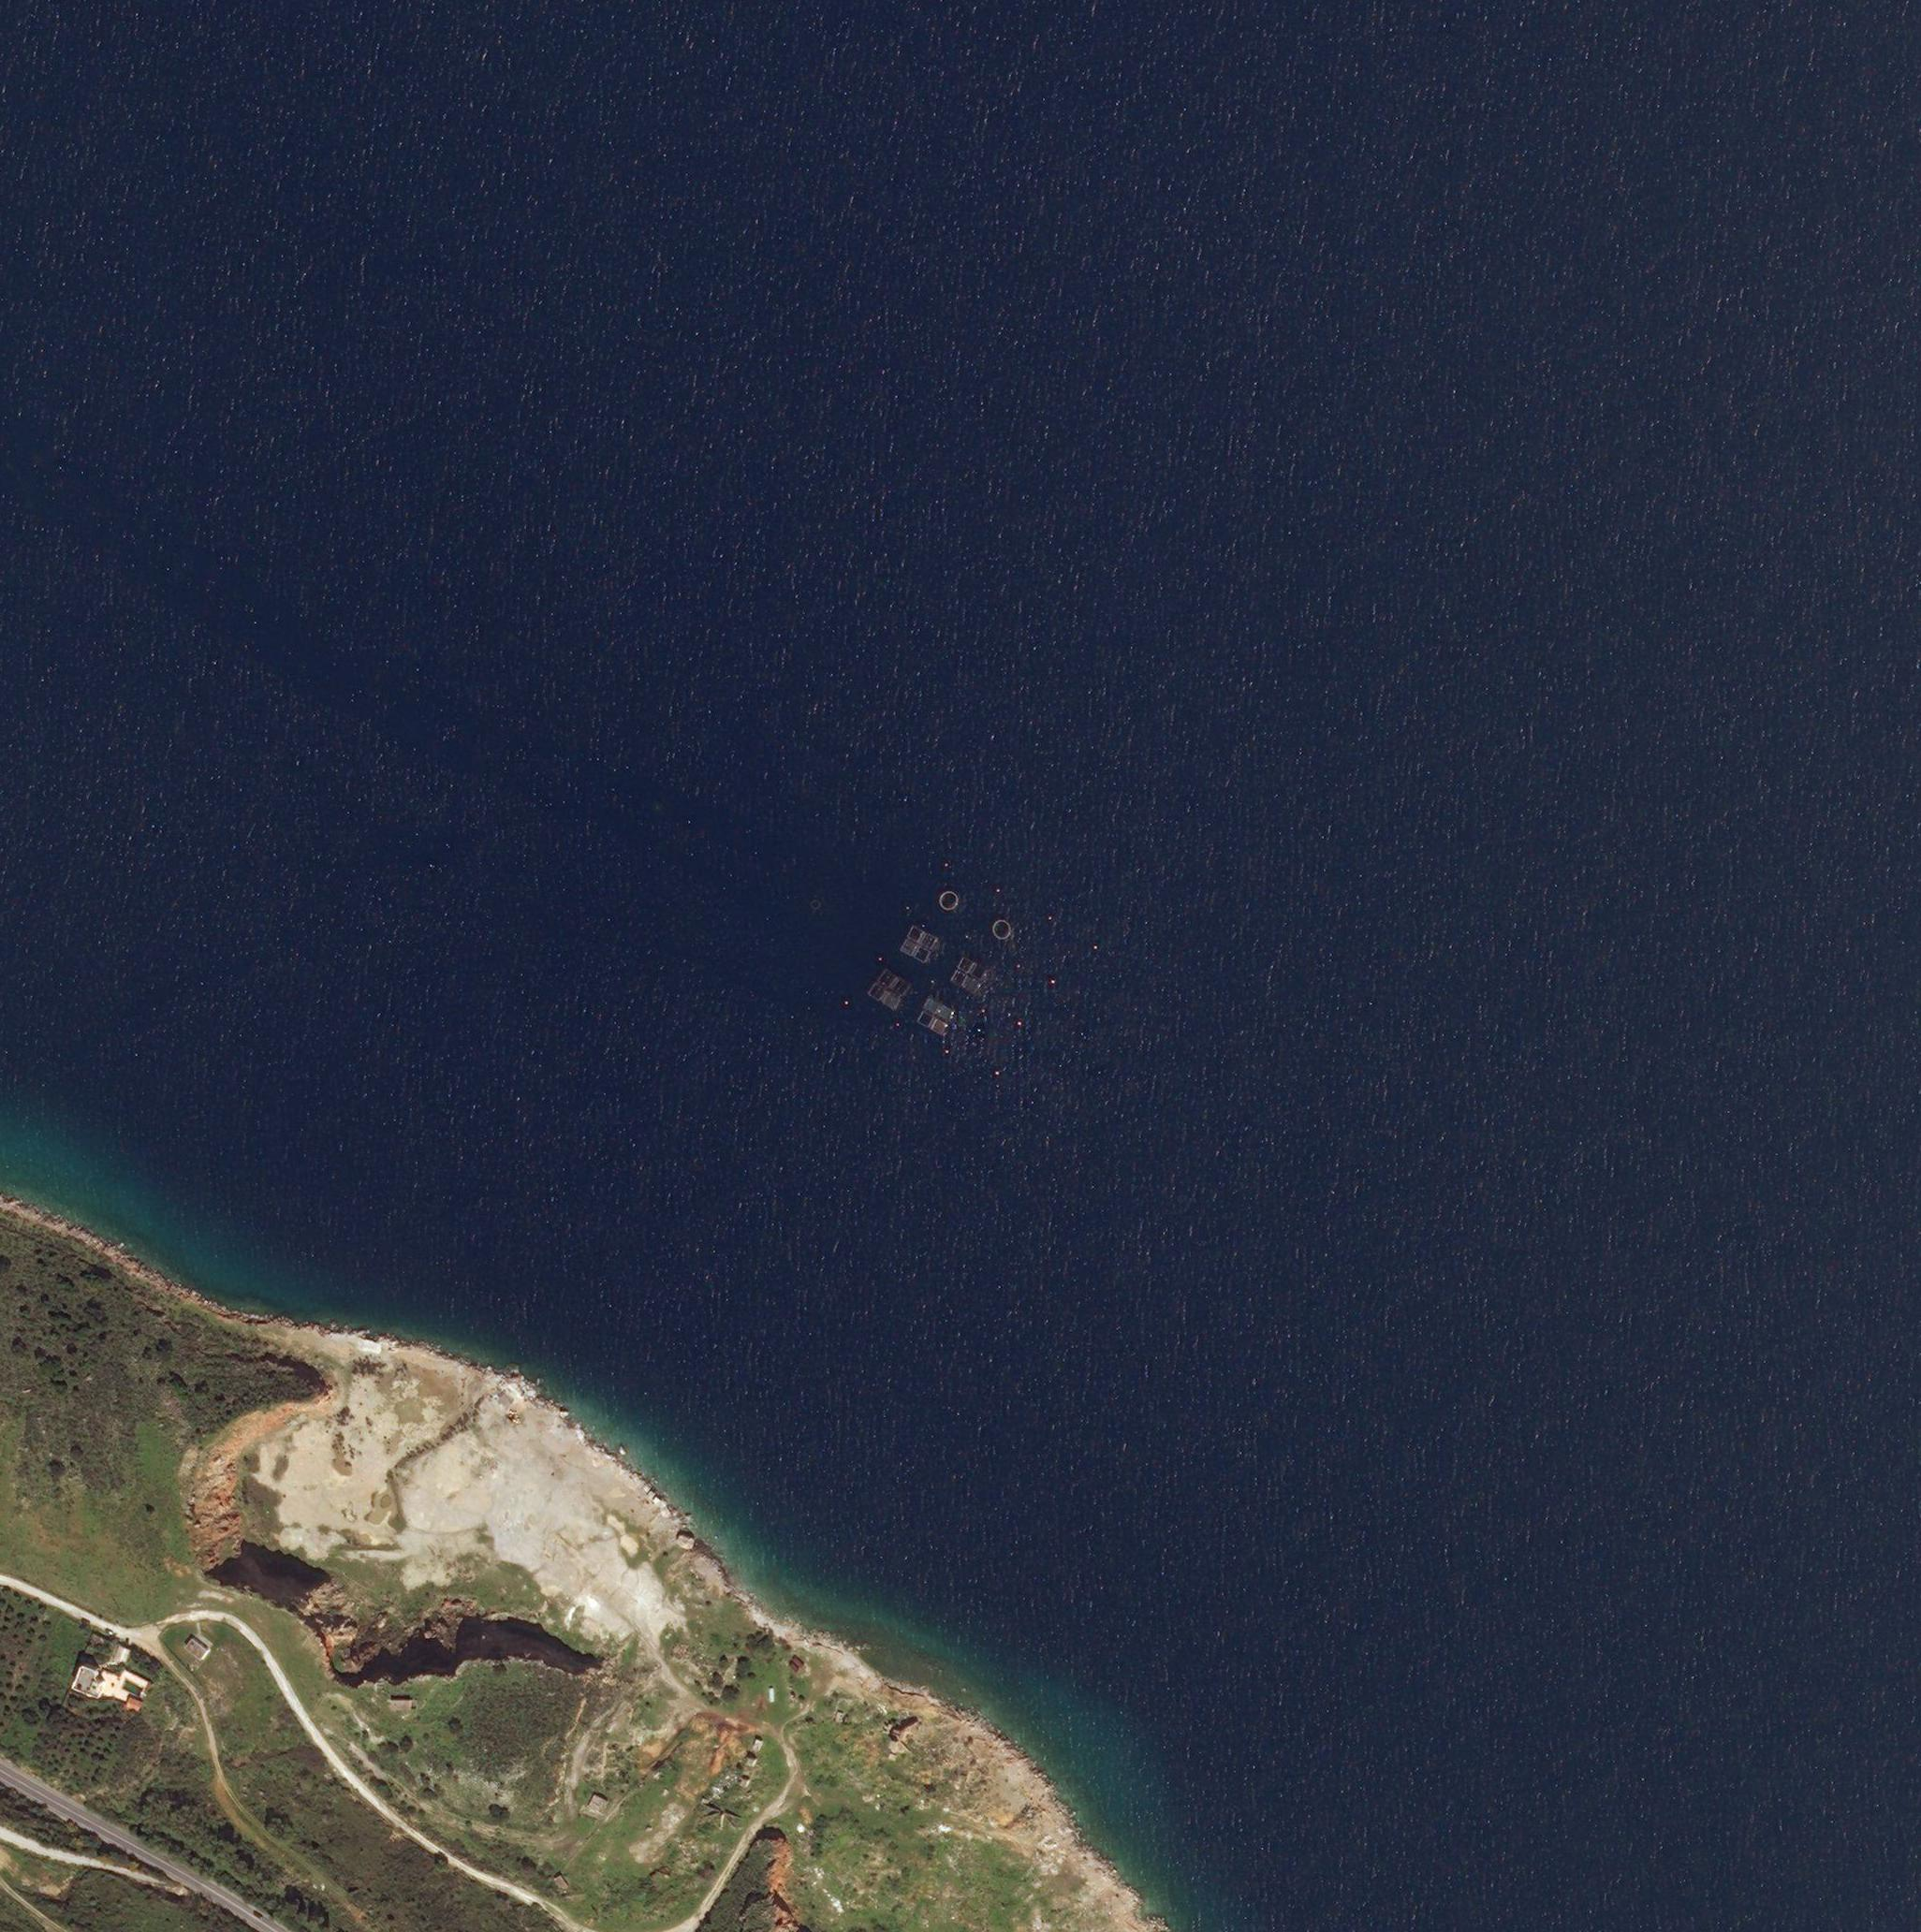c: (938, 889, 959, 911), (992, 918, 1013, 940)
